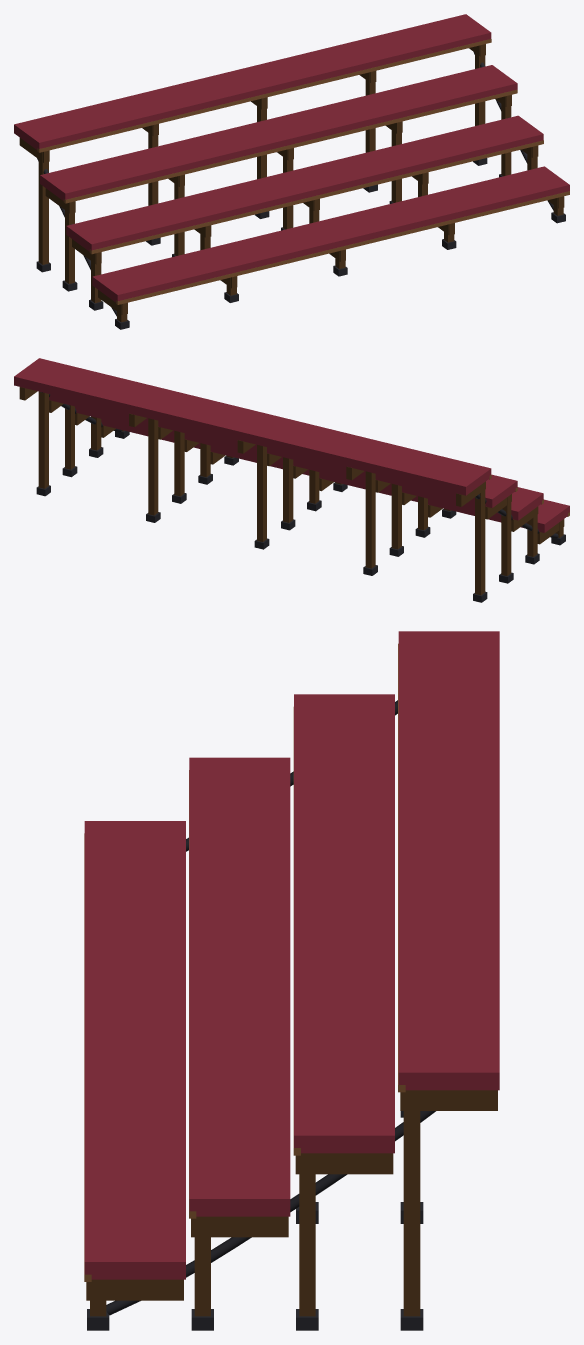
File: mia-bleachers.glb
The picture shows the model from 3 angles, top to bottom: view 1: azimuth 30°, elevation 25°; view 2: azimuth 150°, elevation 25°; view 3: azimuth 270°, elevation 25°; orthographic projection. The views are drawn at different scales.
Visible parts, largest first — view 1: Body_velvet, Body_wood, Body_oak, Body_iron; view 2: Body_velvet, Body_wood, Body_iron; view 3: Body_velvet, Body_wood, Body_iron, Body_oak.
Part boxes in pixels (box(x1,y1,x2,y2)): Body_velvet: box(14, 14, 569, 302); Body_wood: box(19, 44, 564, 322); Body_oak: box(37, 39, 569, 304); Body_iron: box(36, 52, 565, 329); Body_velvet: box(14, 358, 569, 532); Body_wood: box(19, 387, 564, 595); Body_iron: box(36, 392, 565, 602); Body_velvet: box(84, 631, 499, 1279); Body_wood: box(86, 1090, 497, 1316); Body_iron: box(87, 700, 435, 1330); Body_oak: box(84, 643, 405, 1281).
Bounding box in the file's own units: 5.99 × 1.66 × 2.38.
